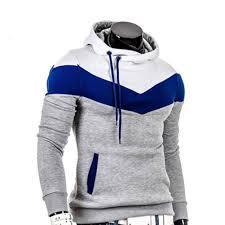sweater: (36, 19, 187, 218)
